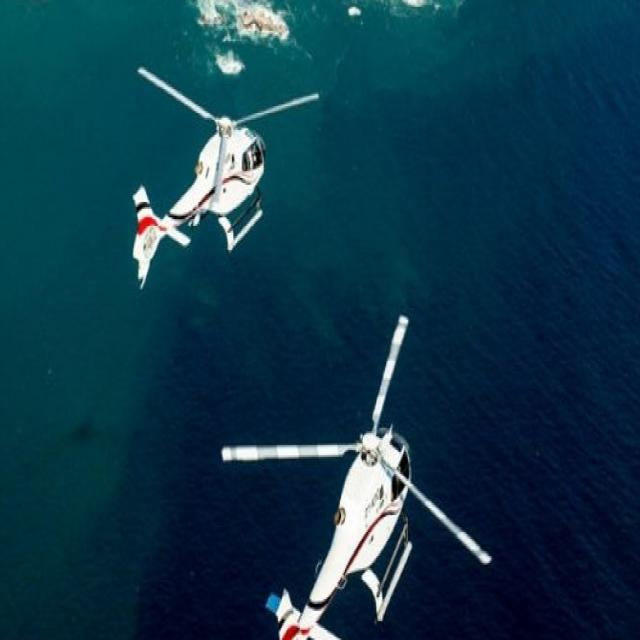helicopter: (225, 319, 499, 640), (135, 68, 283, 299)
